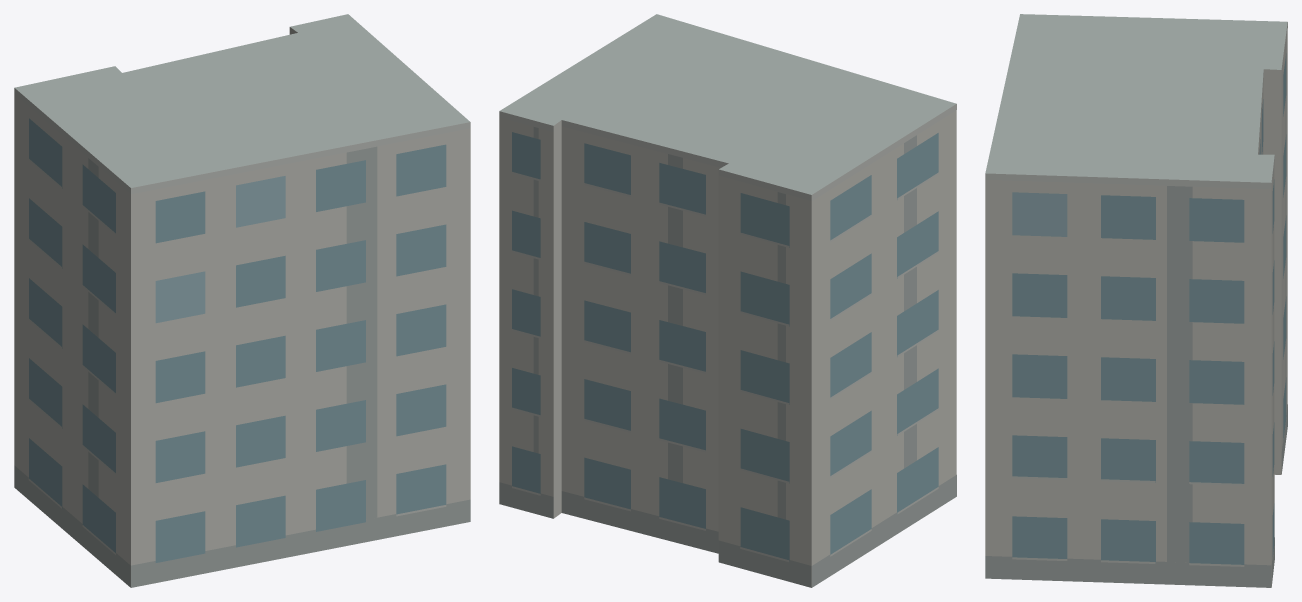
Rendered from survey-upis-32816603.glb.
3 views of the same model, side by side, from view 1: azimuth 30°, elevation 25°; view 2: azimuth 150°, elevation 25°; view 3: azimuth 270°, elevation 25° (orthographic). The views are drawn at different scales.
Parts seen in each view (by area): view 1: survey-upis-32816603.tmp; view 2: survey-upis-32816603.tmp; view 3: survey-upis-32816603.tmp.
Part boxes in pixels (x1,y1,x2,y2): survey-upis-32816603.tmp: (14, 14, 470, 587); survey-upis-32816603.tmp: (499, 14, 956, 587); survey-upis-32816603.tmp: (985, 14, 1287, 587).
Bounding box in the file's own units: 13.59 × 15.2 × 10.3.
